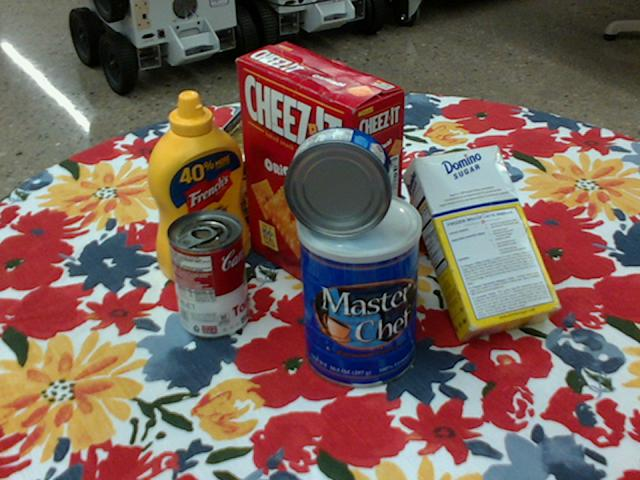cracker_box: (238, 42, 406, 310)
gelatin_box: (277, 130, 357, 206)
large_marker: (217, 86, 274, 143)
master_chef_can: (296, 192, 420, 391)
mug: (403, 153, 494, 259)
mustard_bottle: (146, 92, 249, 283)
potted_meat_can: (193, 129, 287, 233)
sugar_box: (403, 146, 563, 345)
tomato_soup_can: (165, 209, 248, 339)
tuna_fish_can: (285, 127, 394, 239)
